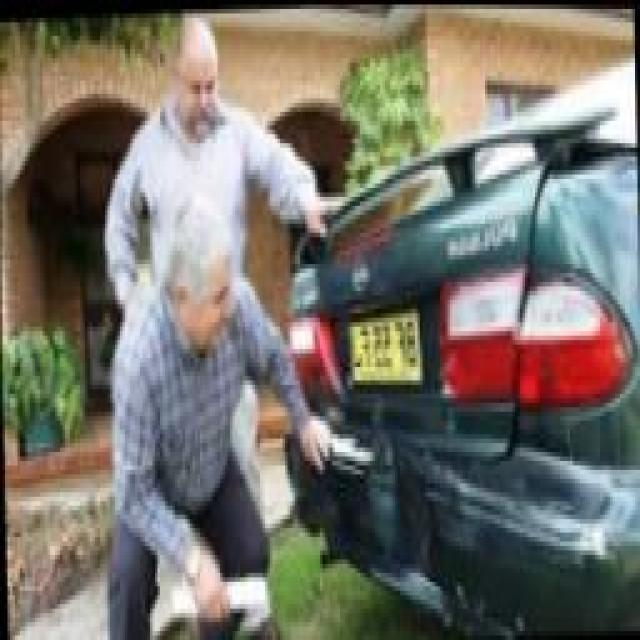Bumper: (326, 451, 620, 632)
Dickey: (344, 401, 508, 453)
